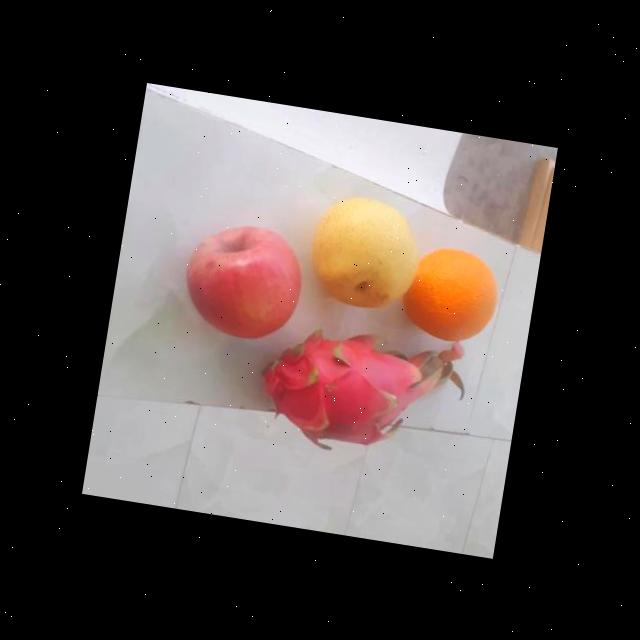apple: (180, 213, 310, 346)
orange: (399, 238, 503, 344)
pear: (303, 183, 428, 316)
pitaya: (256, 313, 438, 462)
